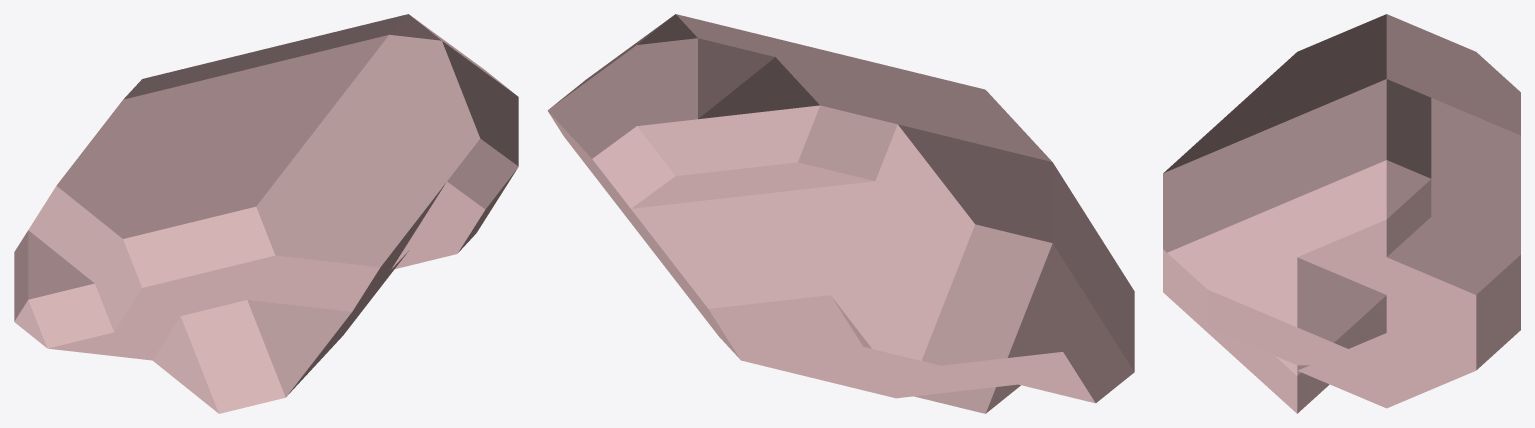
Rendered from region_0022_Cinf__commissura_infima_of_Haller_.glb.
3 views of the same model, side by side, from view 1: azimuth 30°, elevation 25°; view 2: azimuth 150°, elevation 25°; view 3: azimuth 270°, elevation 25° (orthographic). The views are drawn at different scales.
Visible parts, largest first — view 1: world; view 2: world; view 3: world.
Boxes of the visible parts, left/top/right/bottom form: world: left=14, top=14, right=518, bottom=413; world: left=547, top=14, right=1134, bottom=413; world: left=1163, top=14, right=1520, bottom=413.
Size of the model in its own units: 0.056 by 0.032 by 0.032.
